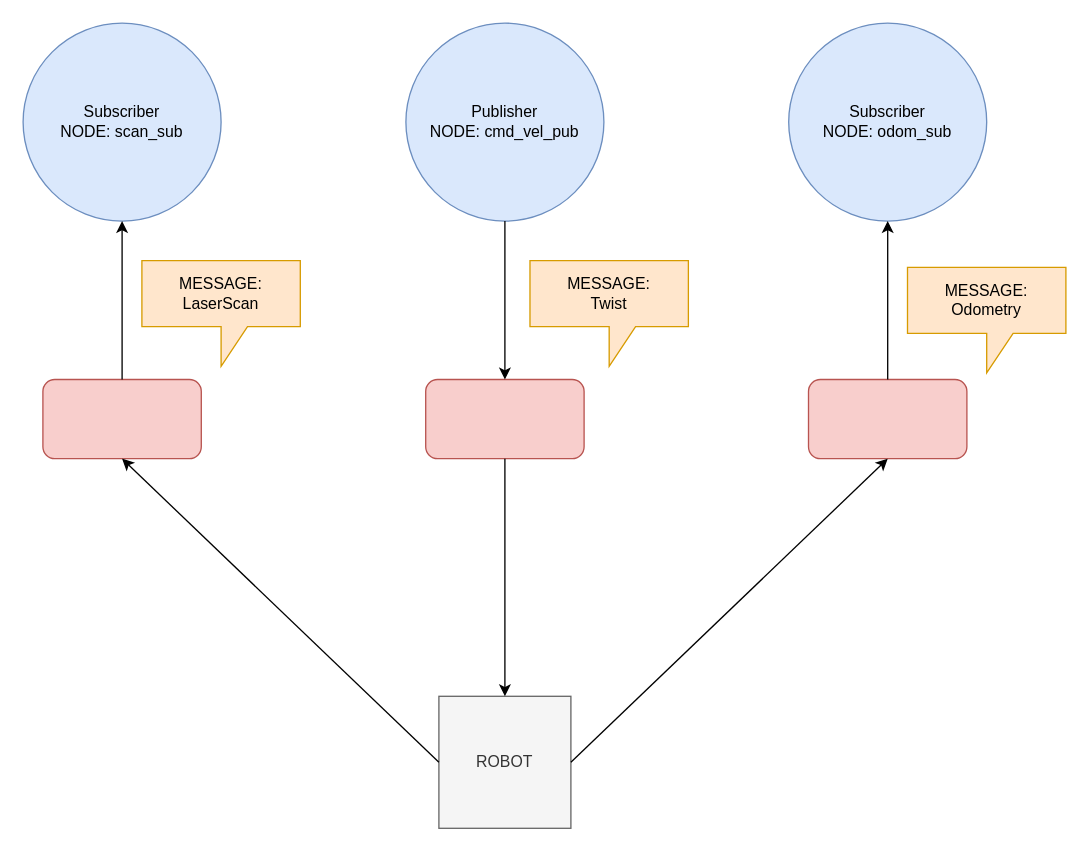
This 1089x851 diagram has some shape labels left out. Each missing label, with the box of its shape:
TOPIC: cmd_vel: (424, 378, 584, 459)
TOPIC: odom: (807, 378, 967, 459)
TOPIC: scan: (42, 378, 201, 459)
